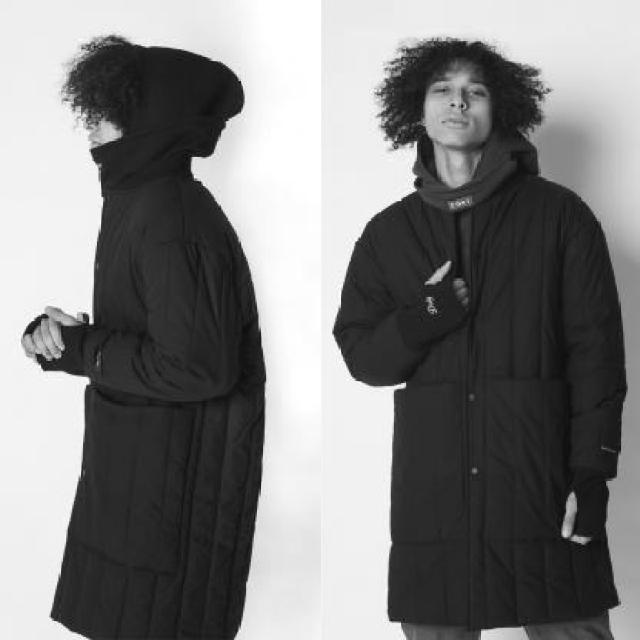face_nomask: (416, 70, 498, 142), (69, 85, 125, 157)
hand_glove: (412, 258, 471, 338), (557, 485, 614, 552), (22, 308, 92, 362)
head_nohelmet: (90, 45, 192, 86), (418, 35, 509, 77)
person: (344, 27, 633, 640), (14, 32, 281, 625)
